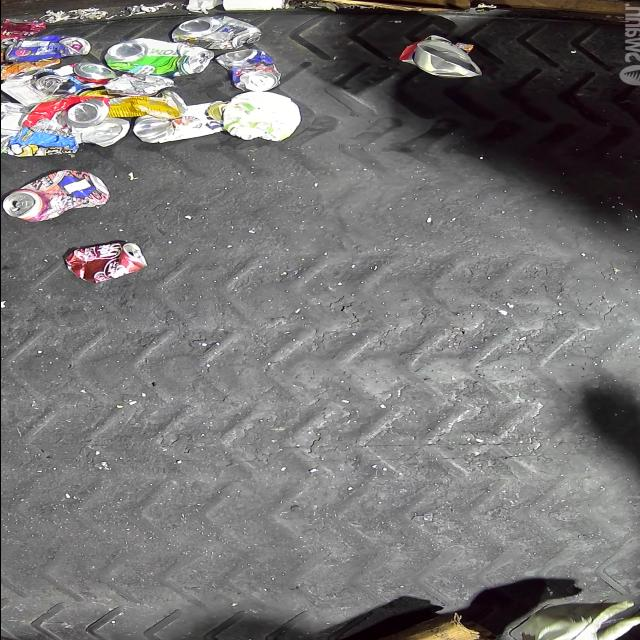can: (0, 170, 110, 222), (103, 38, 214, 76), (132, 101, 230, 144), (20, 96, 110, 138), (61, 241, 147, 283), (77, 90, 187, 119), (170, 16, 261, 50), (214, 49, 281, 91), (4, 34, 90, 62), (52, 62, 116, 90), (74, 118, 129, 147), (0, 19, 47, 50), (0, 101, 25, 151), (32, 70, 72, 96)
